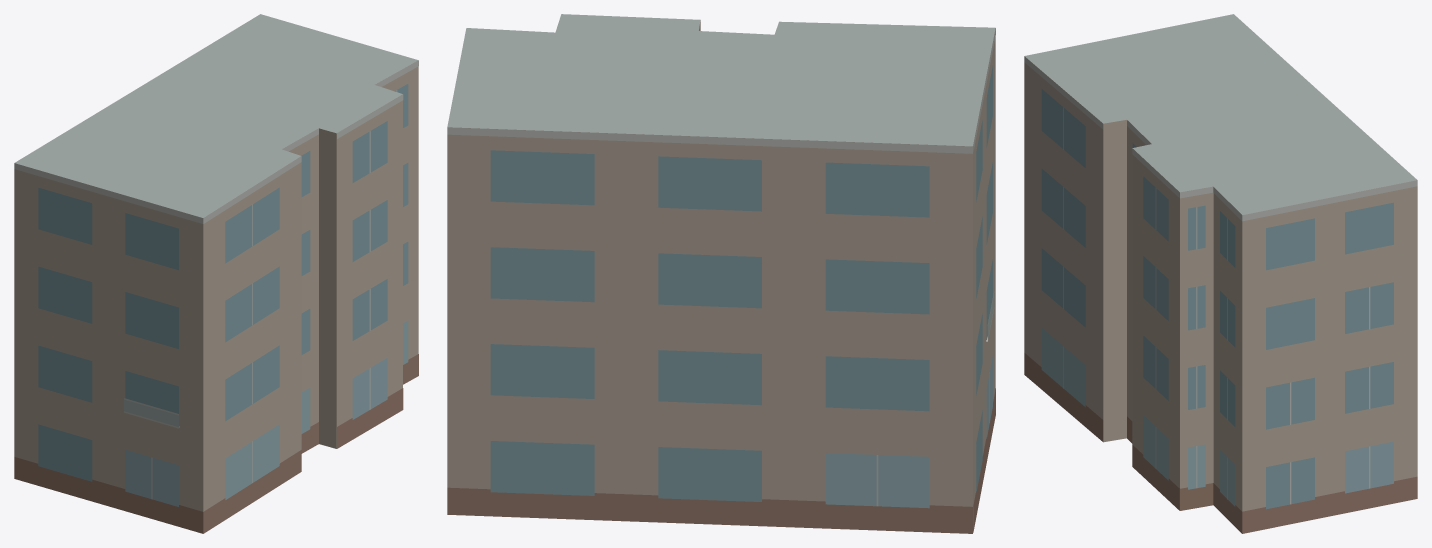
The model's file is survey-upis-32736720.glb.
3 views of the same model, side by side, from view 1: azimuth 30°, elevation 25°; view 2: azimuth 150°, elevation 25°; view 3: azimuth 270°, elevation 25° (orthographic). The views are drawn at different scales.
Visible parts, largest first — view 1: survey-upis-32736720.tmp; view 2: survey-upis-32736720.tmp; view 3: survey-upis-32736720.tmp.
Part boxes in pixels (<box>): survey-upis-32736720.tmp: <box>14,14,418,533</box>; survey-upis-32736720.tmp: <box>447,14,995,533</box>; survey-upis-32736720.tmp: <box>1024,14,1417,533</box>.
Size of the model in its own units: 17.35 by 12.8 by 14.33.
